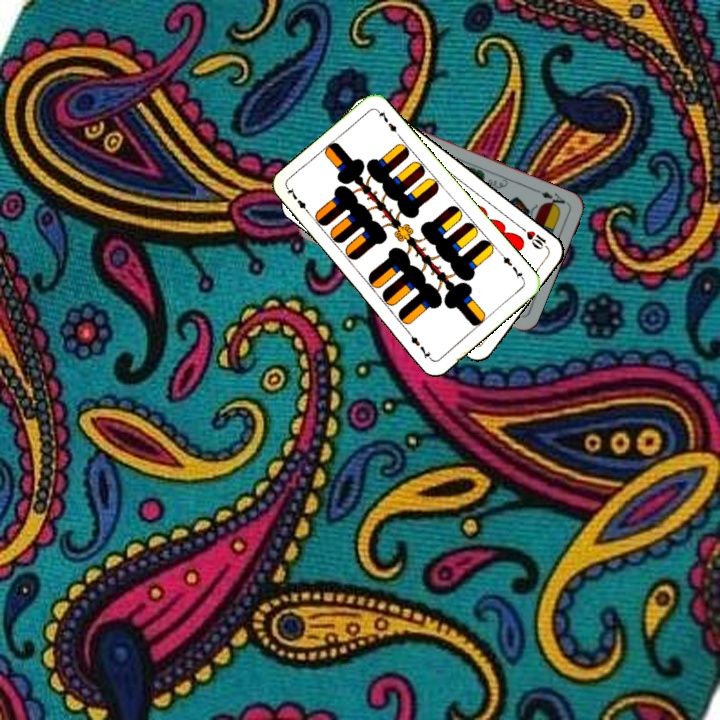E7: (283, 183, 314, 218), (496, 249, 527, 283)
EA: (537, 187, 570, 211)
H10: (516, 223, 551, 252)
